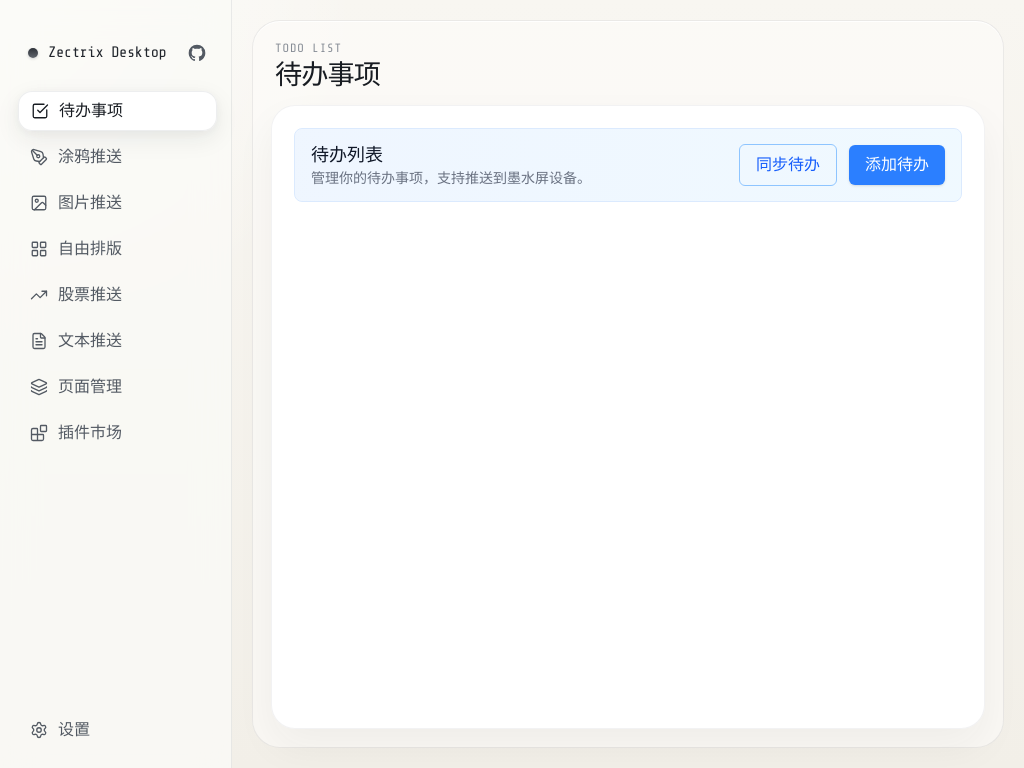
Test: shows sync failure feedback when manual sync throws
Click the button "同步待办": (788, 165) [739,144,837,186]
(page scrolled)
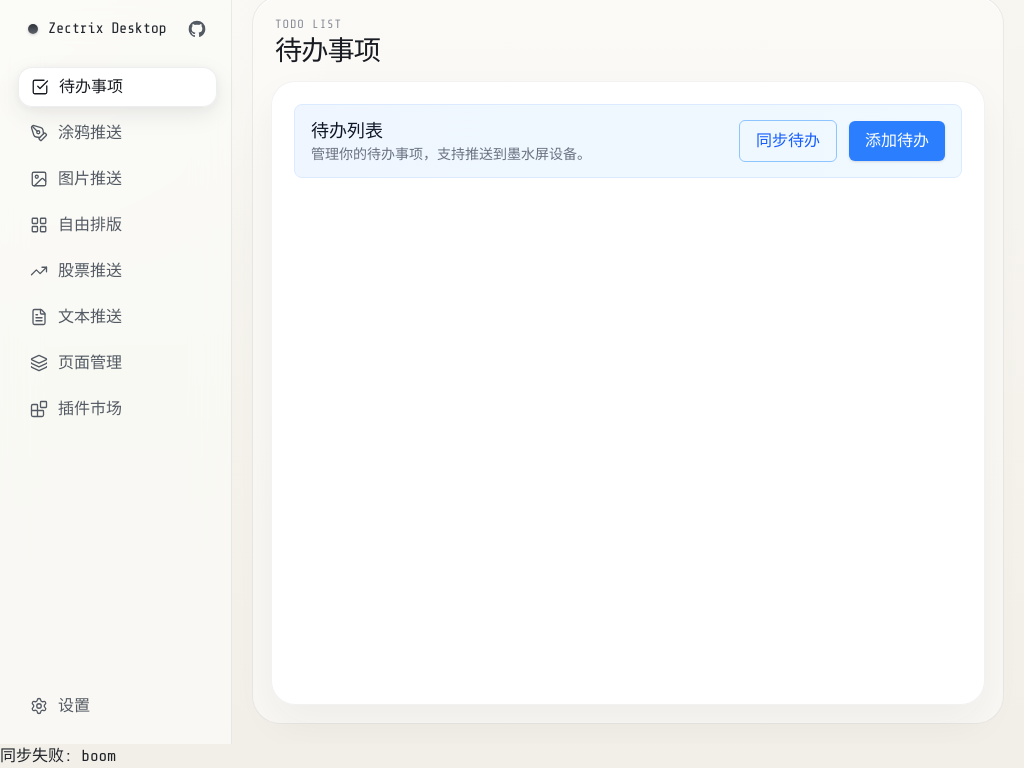
Now the text "同步失败: boom" is shown, box [0,747,116,765]
